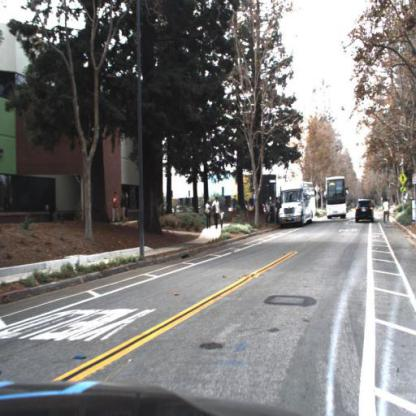biker: (381, 194, 393, 230)
car: (352, 193, 378, 227)
pedestrian: (110, 191, 120, 225), (203, 198, 213, 232), (119, 189, 128, 226), (213, 194, 222, 231), (220, 207, 226, 231)
truck: (275, 178, 319, 229), (323, 173, 351, 222)
